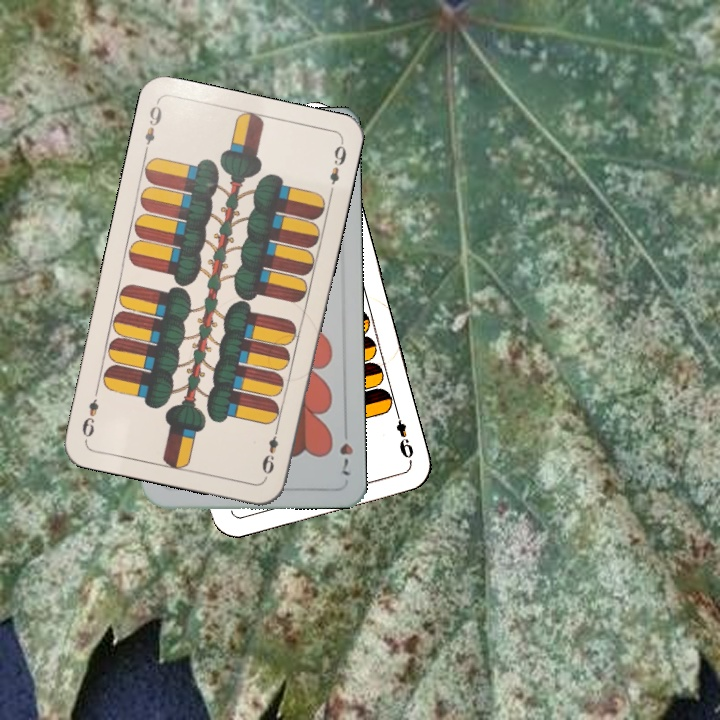E9: (391, 405, 416, 463), (140, 99, 165, 157), (257, 422, 282, 477)
H7: (335, 439, 355, 478)
